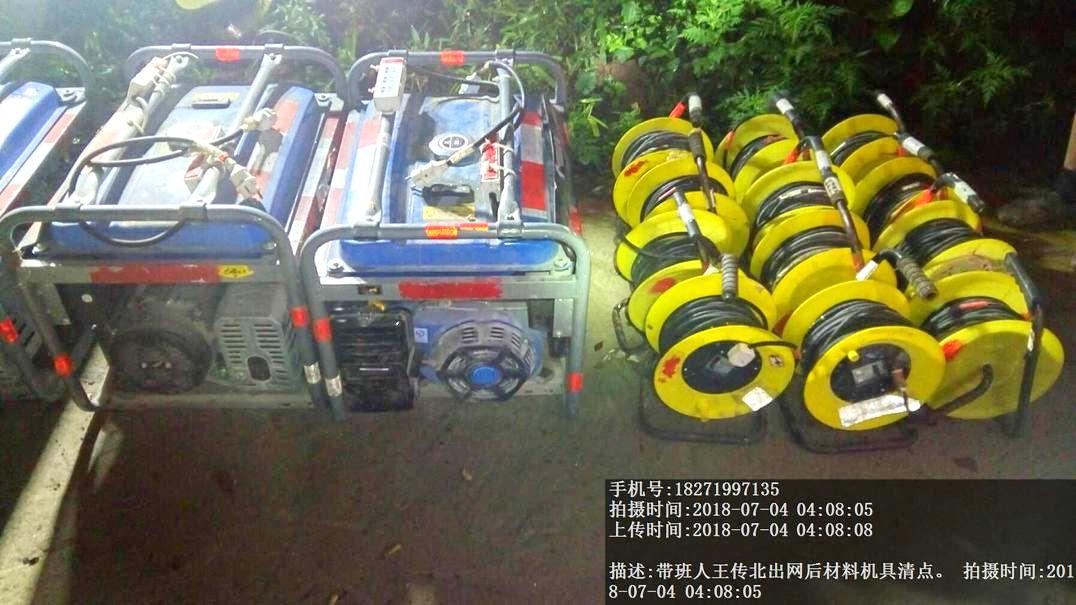DJ: (46, 50, 324, 419), (333, 62, 594, 426)
DX: (790, 287, 933, 444), (643, 279, 789, 432), (932, 275, 1057, 430)
